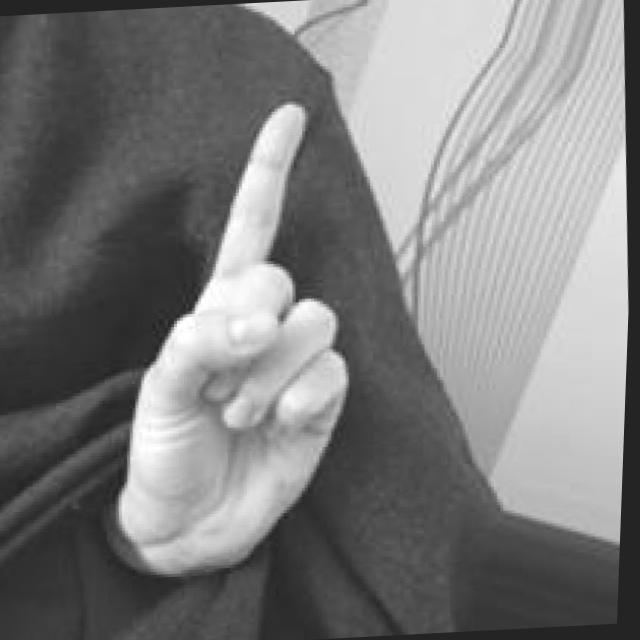I: (98, 99, 372, 576)
